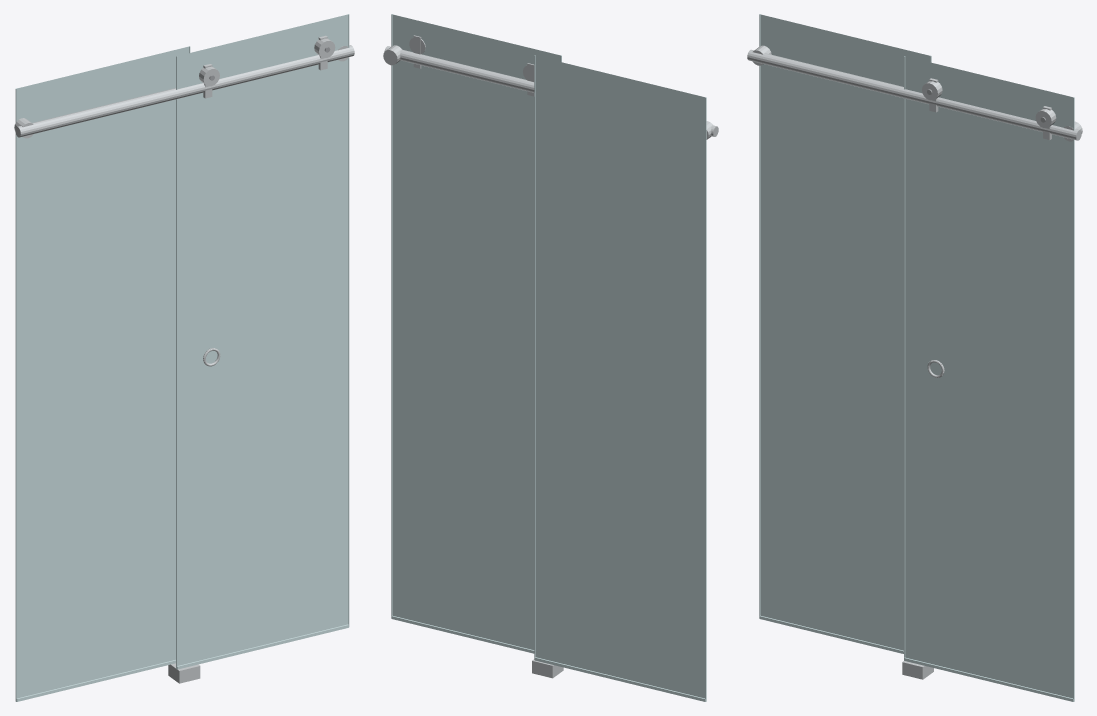
File: compact-clear-roller-sliding-shower-enclosure-10.glb
3 views of the same model, side by side, from view 1: azimuth 30°, elevation 25°; view 2: azimuth 150°, elevation 25°; view 3: azimuth 330°, elevation 25° (orthographic).
Visible parts, largest first — view 1: Sliding right pane, Fixed left pane, Top sliding rail, Sliding right pane glass edges, Fixed left pane glass edges, Sliding right pane lower seal, Fixed left pane lower seal, Exposed roller wheels; view 2: Fixed left pane, Sliding right pane, Fixed left pane glass edges, Top sliding rail, Sliding right pane glass edges, Fixed left pane lower seal, Sliding right pane lower seal; view 3: Sliding right pane, Fixed left pane, Top sliding rail, Sliding right pane glass edges, Fixed left pane glass edges, Sliding right pane lower seal, Exposed roller wheels, Fixed left pane lower seal.
Part boxes in pixels (left/top/right/bottom): Sliding right pane: left=177, top=14, right=347, bottom=665; Fixed left pane: left=17, top=46, right=188, bottom=698; Top sliding rail: left=15, top=45, right=354, bottom=137; Sliding right pane glass edges: left=176, top=14, right=349, bottom=669; Fixed left pane glass edges: left=15, top=46, right=190, bottom=701; Sliding right pane lower seal: left=177, top=624, right=348, bottom=669; Fixed left pane lower seal: left=16, top=660, right=175, bottom=701; Exposed roller wheels: left=199, top=38, right=335, bottom=86; Fixed left pane: left=535, top=56, right=705, bottom=698; Sliding right pane: left=392, top=14, right=560, bottom=649; Fixed left pane glass edges: left=534, top=55, right=706, bottom=701; Top sliding rail: left=384, top=46, right=718, bottom=136; Sliding right pane glass edges: left=391, top=14, right=561, bottom=618; Fixed left pane lower seal: left=534, top=657, right=705, bottom=701; Sliding right pane lower seal: left=391, top=615, right=534, bottom=653; Sliding right pane: left=905, top=56, right=1073, bottom=698; Fixed left pane: left=760, top=14, right=930, bottom=650; Top sliding rail: left=747, top=49, right=1081, bottom=140; Sliding right pane glass edges: left=904, top=56, right=1074, bottom=701; Fixed left pane glass edges: left=759, top=14, right=931, bottom=618; Sliding right pane lower seal: left=904, top=657, right=1073, bottom=701; Exposed roller wheels: left=922, top=81, right=1056, bottom=128; Fixed left pane lower seal: left=759, top=615, right=903, bottom=653.
Size of the model in its own units: 1.1 by 1.97 by 0.08.
